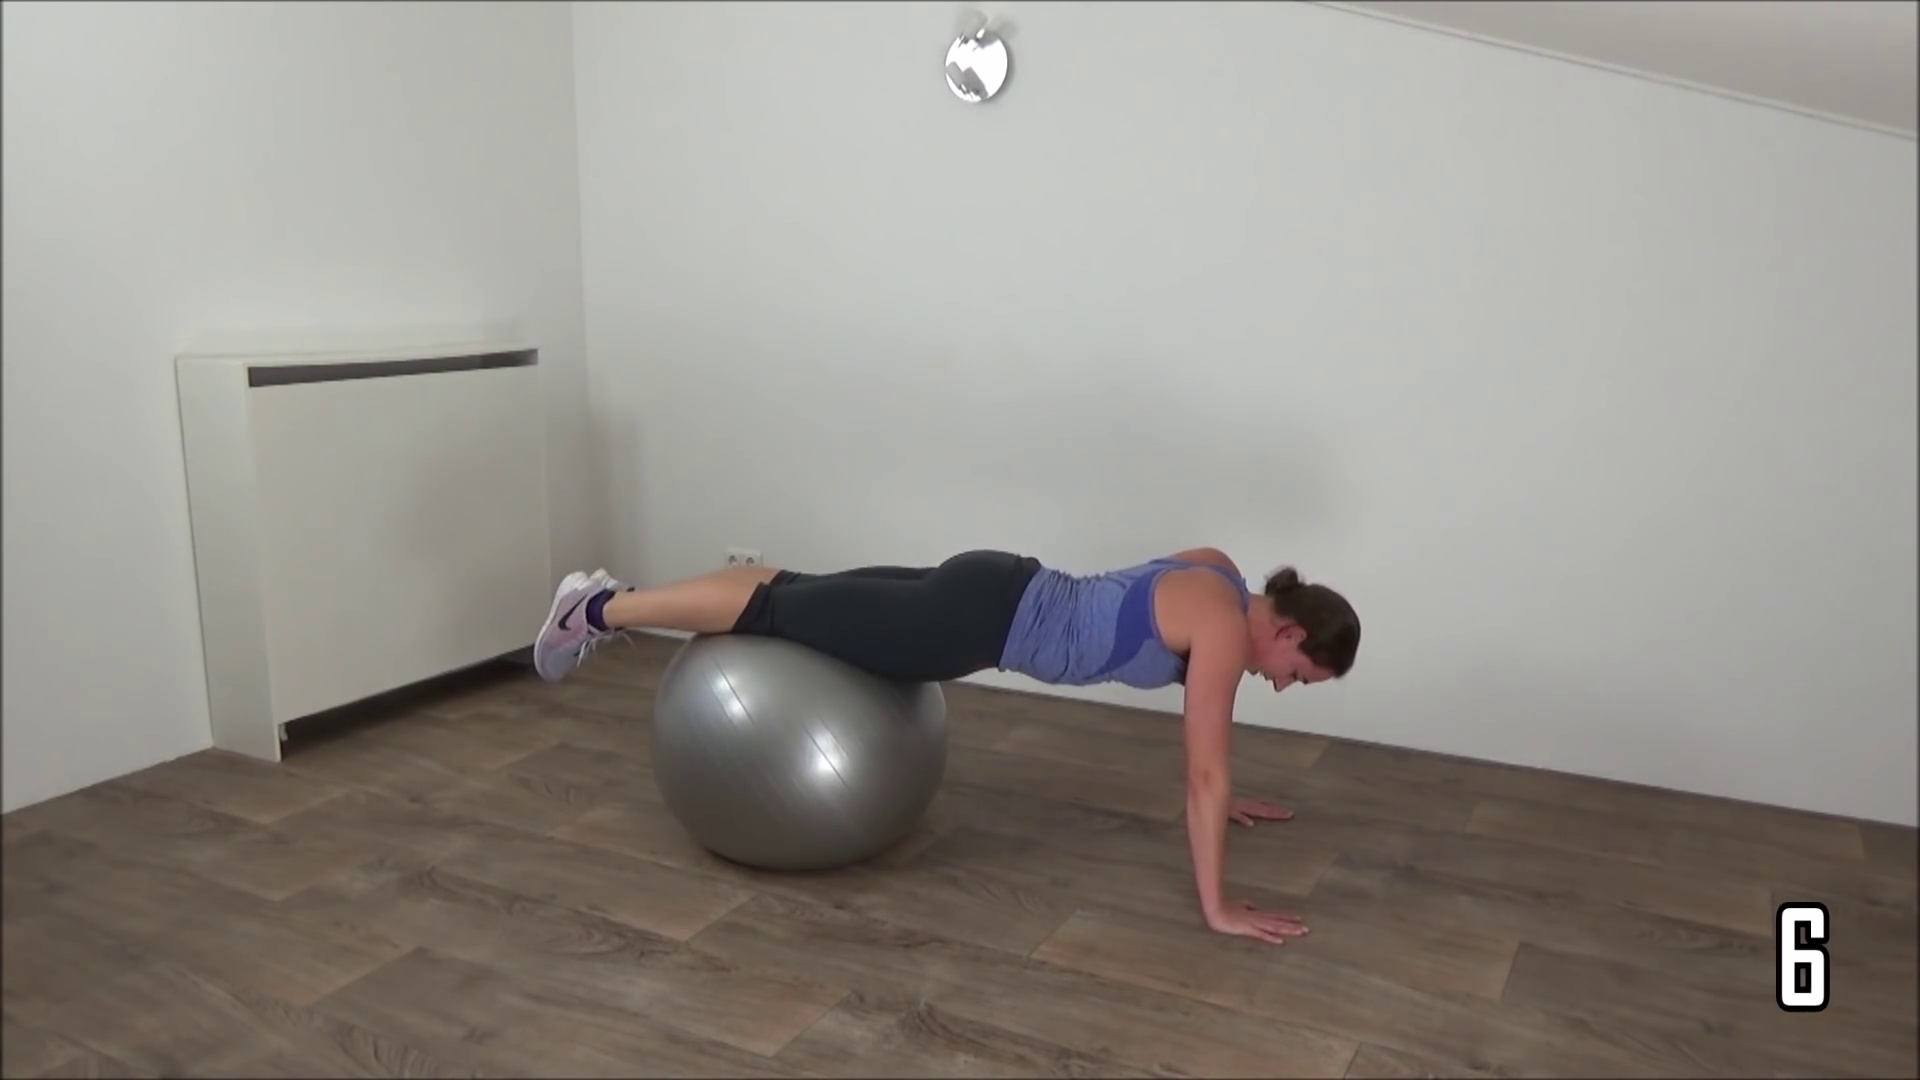yogaball: (633, 624, 960, 884)
